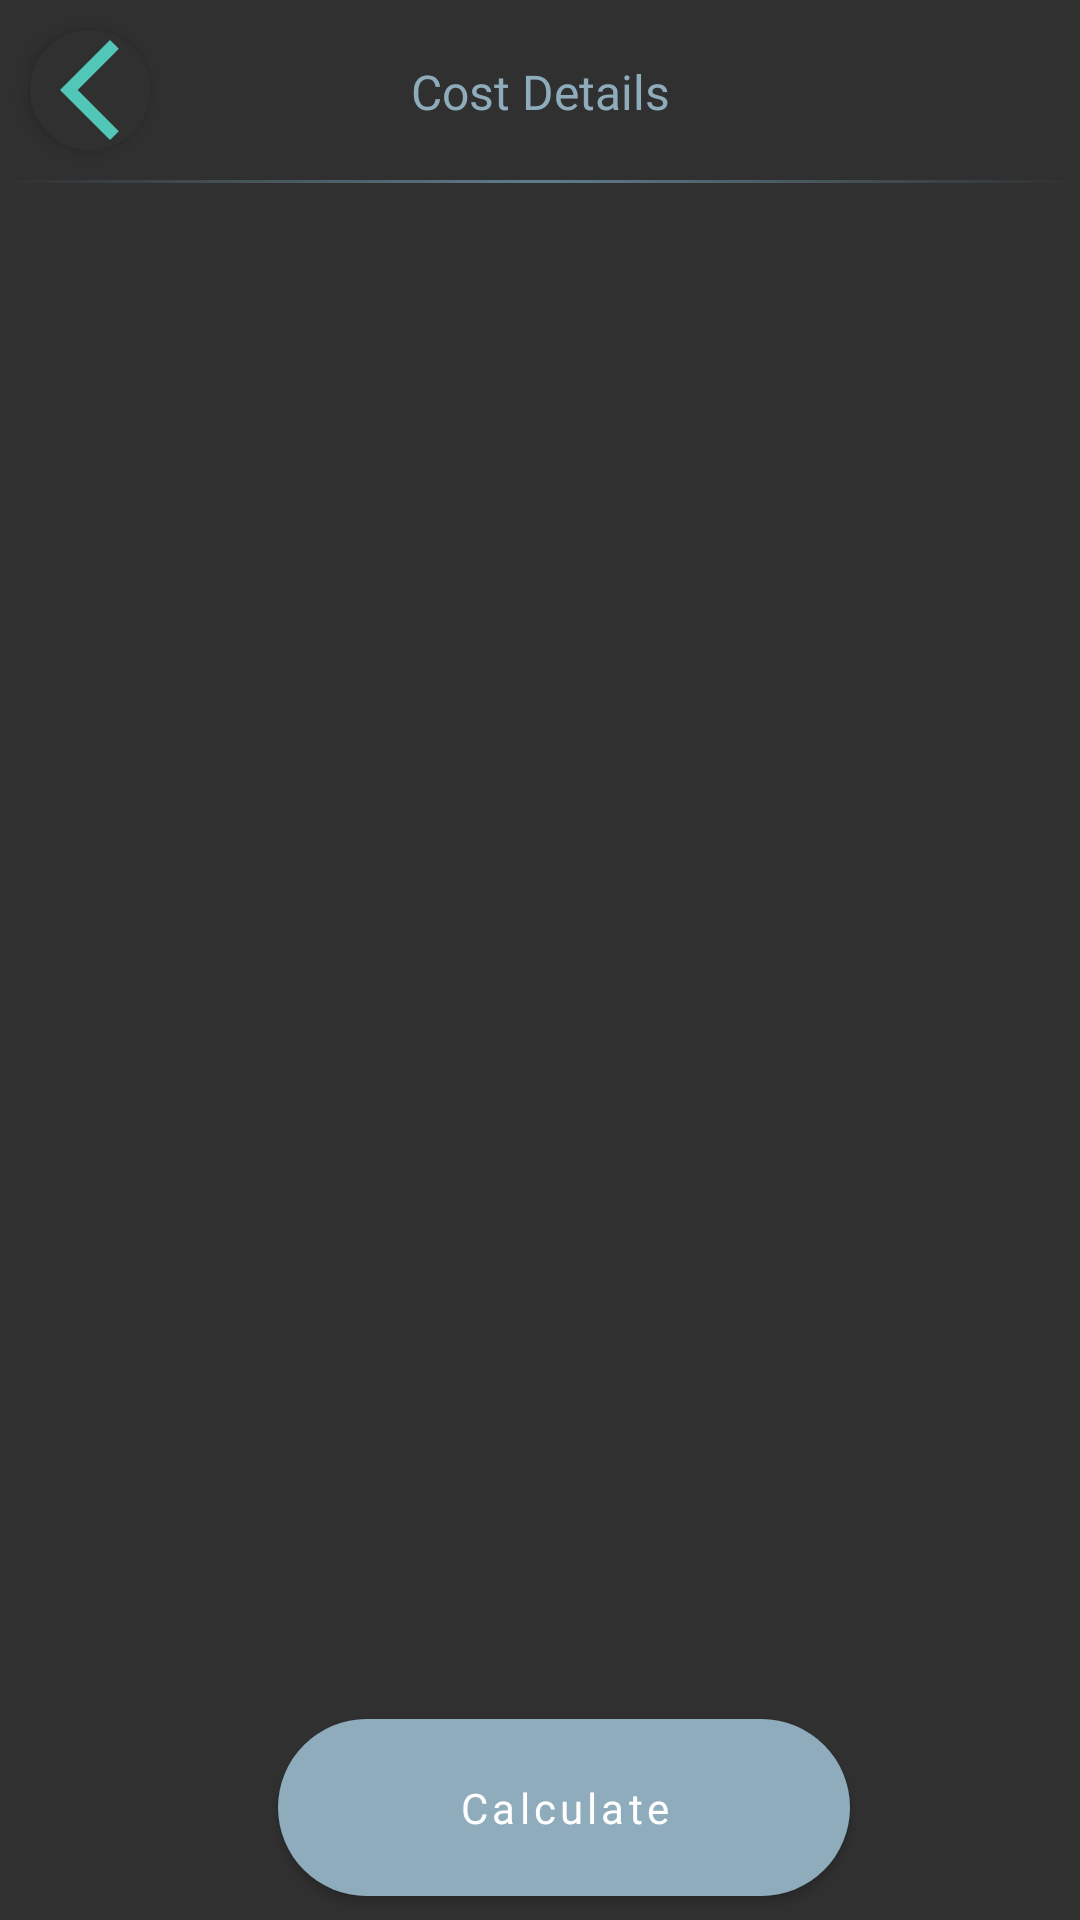

Screen size 1080px x 1920px. Icon name, then its center in pixels as (x=x, y=y):
Back: (x=89, y=90)
